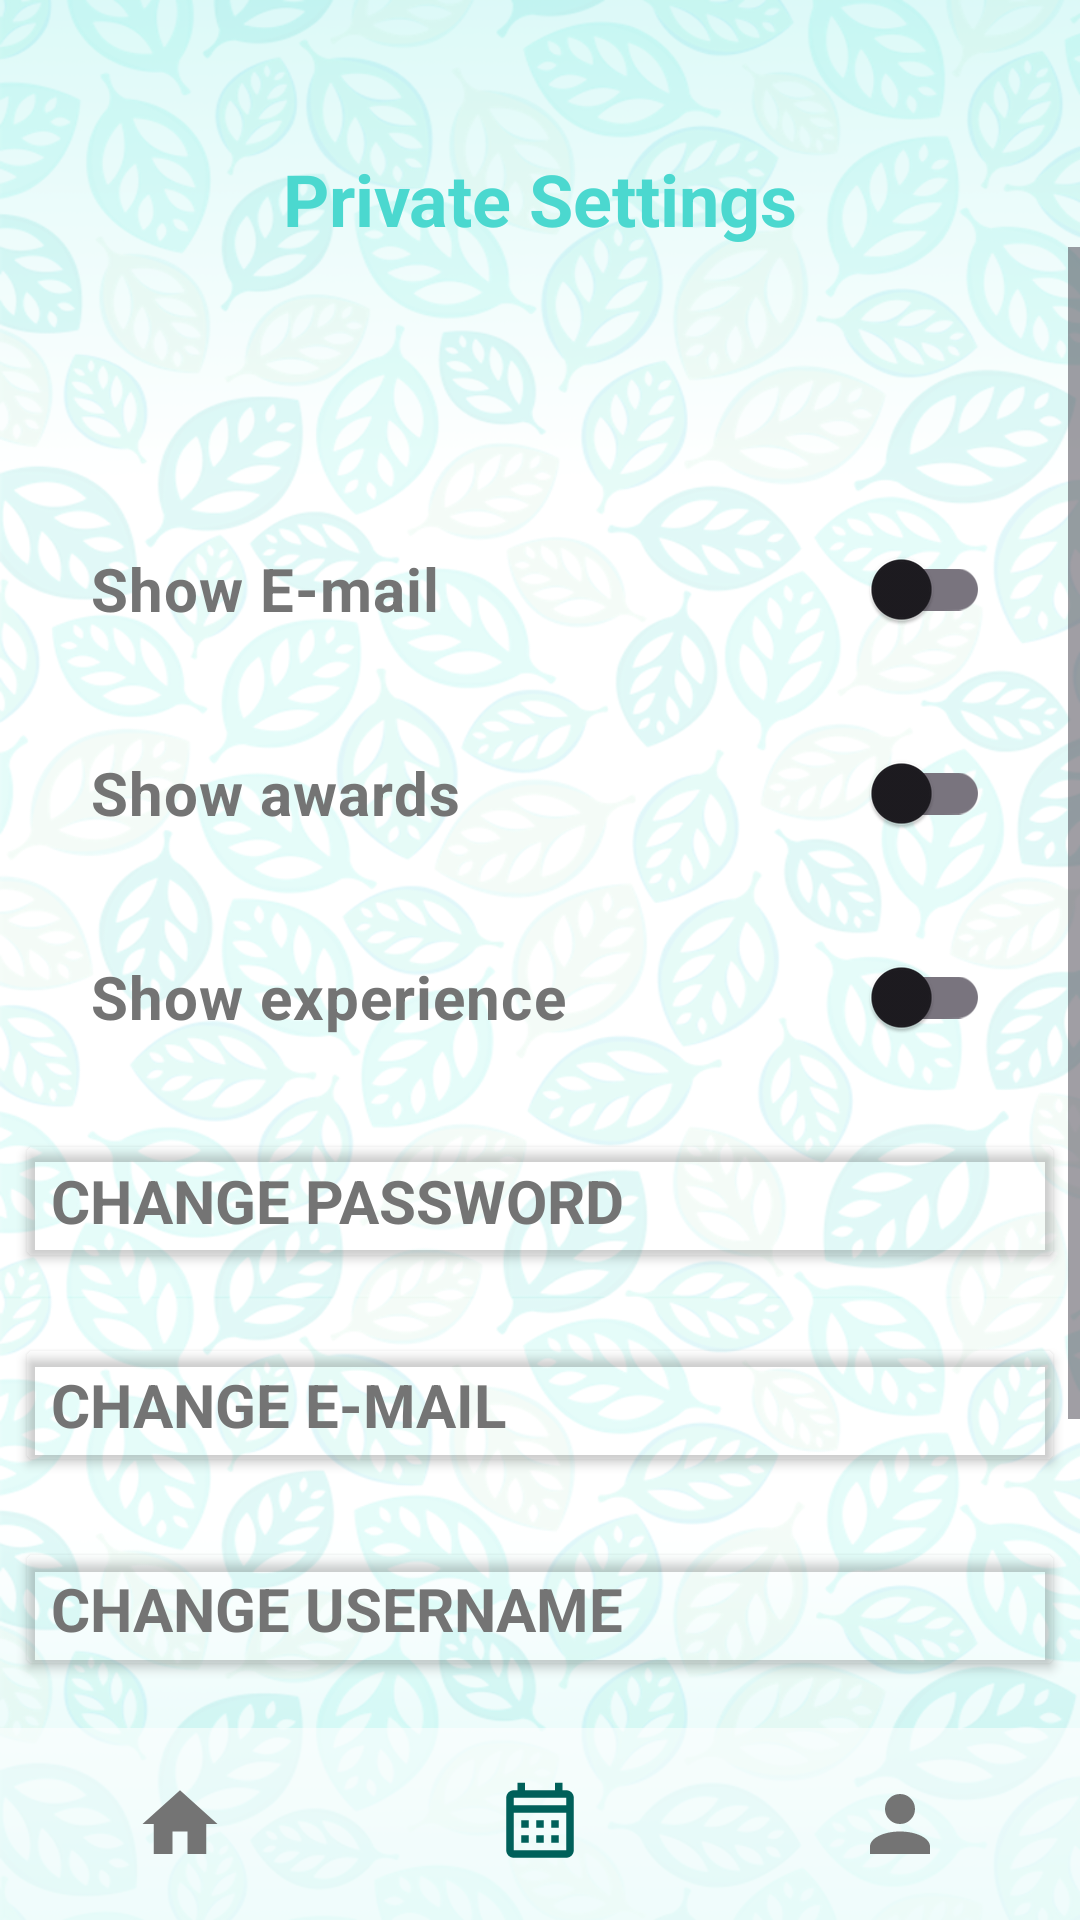

Icon click points for this 1080px x 1920px phone screenshot, format point (x, y):
account: point (900, 1824)
calendar month: point (540, 1820)
home: point (180, 1822)
